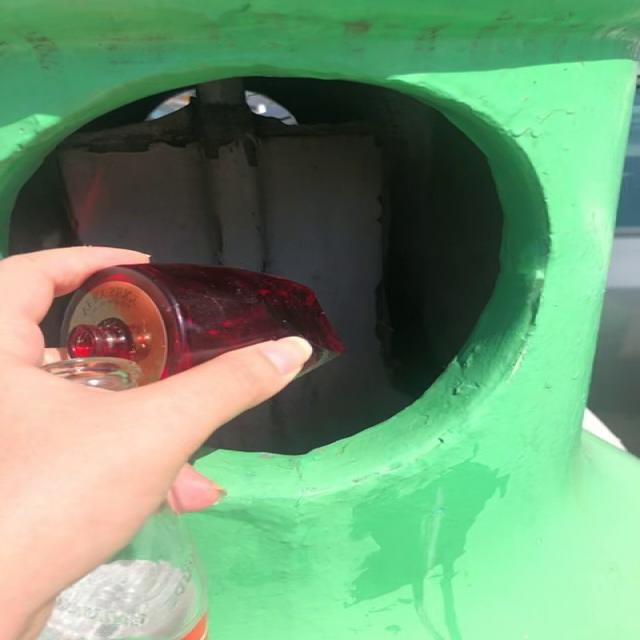Glass: (60, 265, 344, 384)
